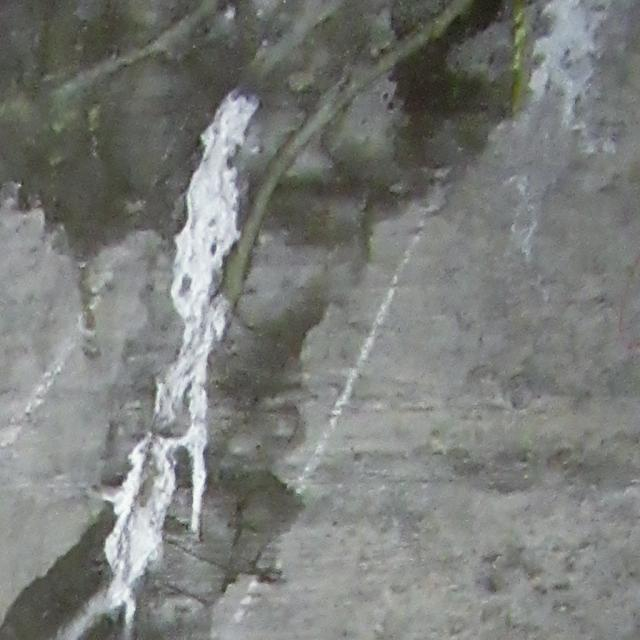D01: (106, 94, 261, 621)
